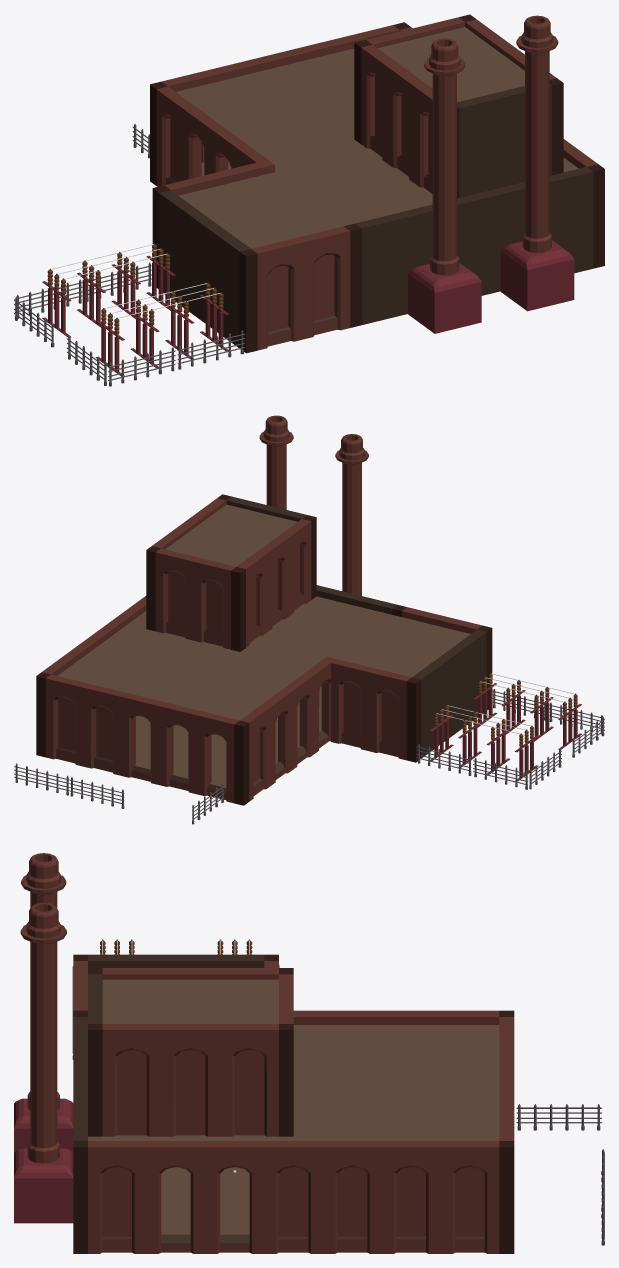
The model's file is Energy_Generator_Area.fbx.
The picture shows the model from 3 angles, top to bottom: view 1: azimuth 30°, elevation 25°; view 2: azimuth 150°, elevation 25°; view 3: azimuth 270°, elevation 25°; orthographic projection. The views are drawn at different scales.
Parts seen in each view (by area): view 1: Plane.001, Cube.020, Cube.019, Cube.023, Cube.041, Cylinder.001, Cylinder.002, Cube.005, Cube.006, Plane.002, Cube.043, Cube.042 (+36 smaller); view 2: Plane.001, Cube.023, Plane.002, Plane, Cylinder.002, Cube.007, Cube.039, Cube.014, Cube.021, Cube.040, Cube.013, Cube.012 (+29 smaller); view 3: Plane.001, Plane.002, Cylinder.001, Cube.026, Cube.027, Cube.033, Cube.028, Cube.002, Cube.001, Cube.004, Cube.031, Plane (+20 smaller).
Part boxes in pixels (x1,y1,x2,y2): Plane.001: (176, 48, 578, 248); Cube.020: (355, 195, 477, 324); Cube.019: (471, 167, 593, 295); Cube.023: (159, 190, 250, 347); Cube.041: (457, 84, 551, 197); Cylinder.001: (516, 15, 558, 252); Cylinder.002: (424, 38, 465, 275); Cube.005: (297, 226, 350, 339); Cube.006: (251, 237, 303, 350); Plane.002: (378, 27, 524, 102); Cube.043: (500, 240, 574, 311); Cube.042: (408, 263, 481, 333); Plane.001: (58, 596, 470, 720); Cube.023: (412, 629, 486, 758); Plane.002: (165, 504, 296, 566); Plane: (56, 685, 327, 793); Cylinder.002: (335, 434, 368, 595); Cube.007: (368, 668, 411, 760); Cube.039: (155, 548, 198, 640); Cube.014: (45, 674, 88, 766); Cube.021: (331, 659, 373, 750); Cube.040: (193, 557, 235, 649); Cube.013: (83, 683, 125, 775); Cube.012: (196, 711, 239, 803); Plane.001: (88, 1025, 499, 1140); Plane.002: (102, 979, 278, 1023); Cylinder.001: (20, 902, 66, 1163); Cube.026: (102, 1024, 161, 1136); Cube.027: (161, 1024, 220, 1136); Cube.033: (440, 1141, 499, 1253); Cube.028: (220, 1024, 278, 1136); Cube.002: (323, 1141, 381, 1253); Cube.001: (264, 1141, 322, 1253); Cube.004: (88, 1141, 146, 1253); Cube.031: (382, 1141, 440, 1253); Plane: (102, 1167, 484, 1243).
Bounding box in the file's own units: 5427 × 2863 × 5066.
